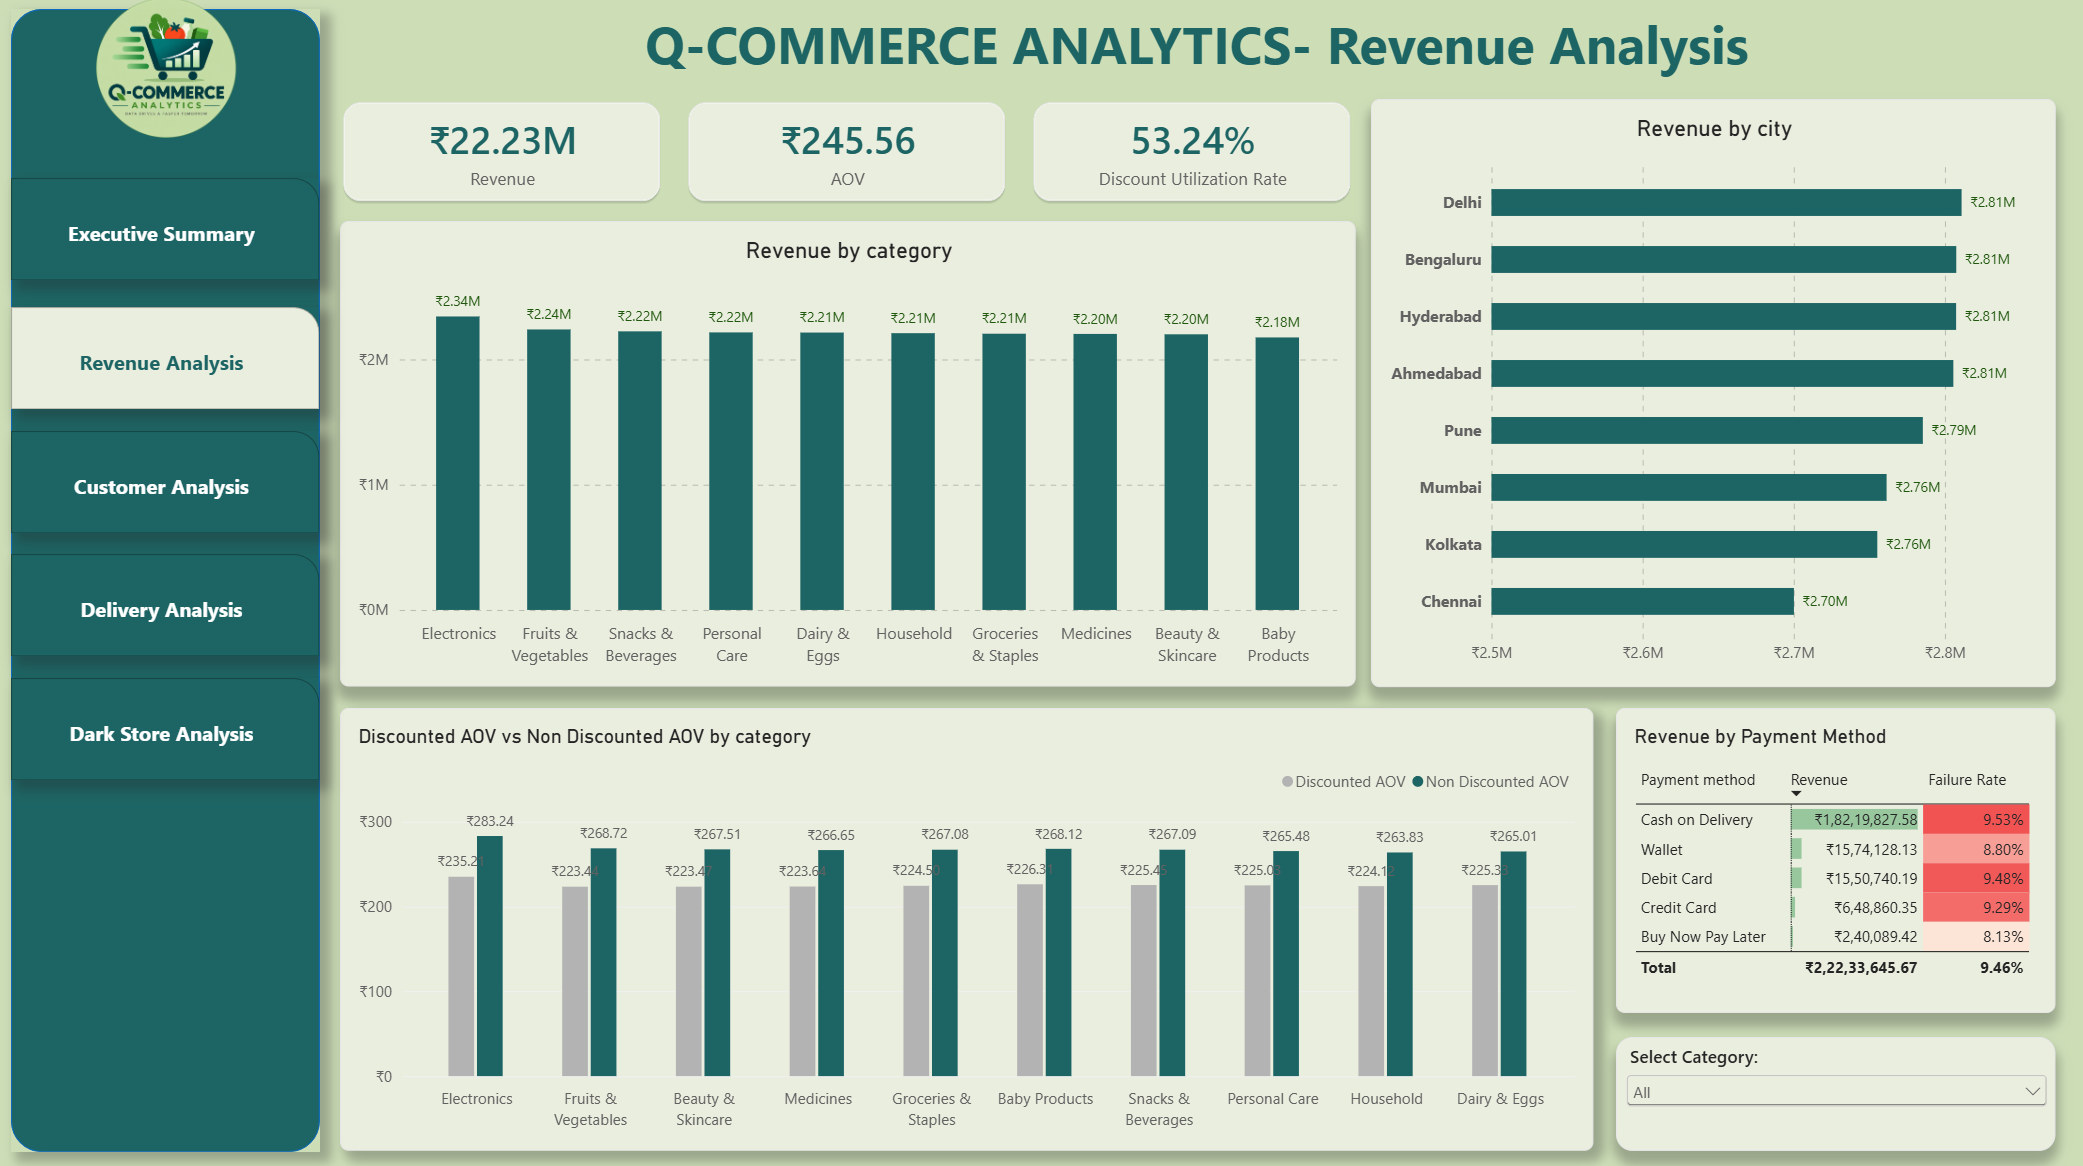

What the dashboard file says about the page in this screenshot:
{"tool":"powerbi","page":{"name":"Revenue Analysis","canvas":[1920,1080],"ordinal":1},"visuals":[{"type":"clusteredColumnChart","title":"Revenue by category","fields":{"Category":["qcommerce_2015_cleaned.category"],"Y":["Measure Table.Revenue"]},"box":[314.2,208.3,936.2,429.4],"z":0},{"type":"shape","box":[11.1,12.5,284.6,1053.4],"z":1000},{"type":"textbox","box":[305.9,12,1596,65.4],"z":2000},{"type":"cardVisual","fields":{"Data":["Measure Table.Revenue","Measure Table.AOV","Measure Table.Discount Utilization Rate"]},"box":[314.2,95.8,936.2,97.7],"z":3000},{"type":"clusteredBarChart","title":"Revenue by city","fields":{"Category":["qcommerce_2015_cleaned.city"],"Y":["Measure Table.Revenue"]},"box":[1264.3,95.8,631.2,541.8],"z":4000},{"type":"clusteredColumnChart","title":"Discounted AOV vs Non Discounted AOV by category","fields":{"Category":["qcommerce_2015_cleaned.category"],"Y":["Measure Table.Discounted AOV","Measure Table.Non Discounted AOV"]},"box":[314.2,657,1154.6,408.2],"z":5000},{"type":"tableEx","title":"Revenue by Payment Method","fields":{"Values":["qcommerce_2015_cleaned.payment_mode","Measure Table.Revenue","Measure Table.Cancellation + Return Rate"]},"box":[1490.1,657,405.5,281.1],"z":6000},{"type":"slicer","fields":{"Values":["qcommerce_2015_cleaned.category"]},"box":[1490.1,960.2,405.5,105.1],"z":7000},{"type":"shape","title":"Executive Summery","box":[11.4,168.9,284.2,94.4],"z":7001},{"type":"shape","box":[11.4,287.6,284.2,94.4],"z":7002},{"type":"shape","box":[11.4,629.6,284.2,94.4],"z":7003},{"type":"shape","box":[11.4,401.6,284.2,94.4],"z":7004},{"type":"shape","box":[11.4,515.6,284.2,94.4],"z":7005},{"type":"image","box":[68.7,0,169.8,135.4],"z":7006}]}

Visuals, with their boxes on the page's 1920x1080 design canvas (x1, y1, x2, y2). These are canvas units, not pixel positions in the 2083x1166 screenshot, which may show the page scaled, cropped or inside an application window:
"Revenue by category" clusteredColumnChart: box=[314, 208, 1250, 638]
shape: box=[11, 12, 296, 1066]
textbox: box=[306, 12, 1902, 77]
cardVisual - Measure Table.Revenue x Measure Table.AOV: box=[314, 96, 1250, 194]
"Revenue by city" clusteredBarChart: box=[1264, 96, 1896, 638]
"Discounted AOV vs Non Discounted AOV by category" clusteredColumnChart: box=[314, 657, 1469, 1065]
"Revenue by Payment Method" tableEx: box=[1490, 657, 1896, 938]
slicer - qcommerce_2015_cleaned.category: box=[1490, 960, 1896, 1065]
"Executive Summery" shape: box=[11, 169, 296, 263]
shape: box=[11, 288, 296, 382]
shape: box=[11, 630, 296, 724]
shape: box=[11, 402, 296, 496]
shape: box=[11, 516, 296, 610]
image: box=[69, 0, 238, 135]
